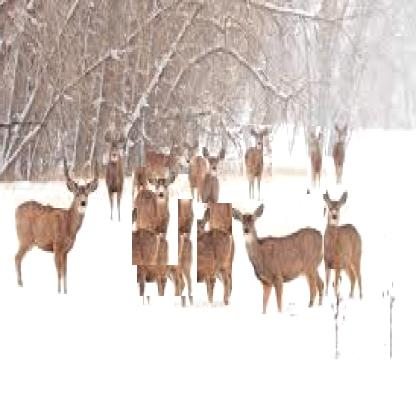Deer: (12, 151, 100, 296), (232, 201, 324, 314), (149, 203, 234, 313), (137, 199, 197, 296), (143, 204, 198, 306), (321, 183, 368, 301), (132, 167, 178, 265), (102, 129, 130, 224), (140, 139, 184, 196), (199, 147, 228, 226), (243, 125, 272, 201), (181, 142, 208, 198), (328, 120, 350, 183), (307, 127, 326, 194)
